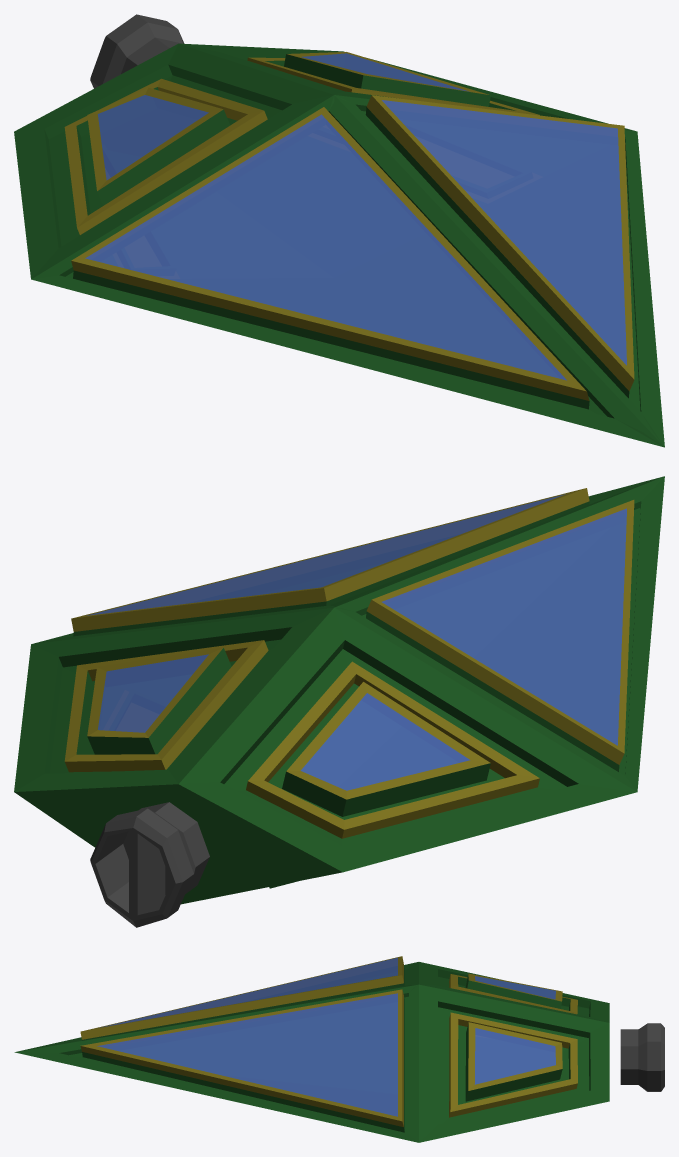
Rendered from nave_inimiga_3_v03.fbx.
3 views of the same model, one above another, from view 1: azimuth 30°, elevation 25°; view 2: azimuth 150°, elevation 25°; view 3: azimuth 270°, elevation 25° (orthographic). The views are drawn at different scales.
Visible parts, largest first — view 1: Plane.004; view 2: Plane.004; view 3: Plane.004.
Part boxes in pixels (x1,y1,x2,y2): Plane.004: (14, 14, 664, 447); Plane.004: (14, 476, 664, 927); Plane.004: (14, 956, 664, 1142).
Size of the model in its own units: 5495 by 1620 by 8344.
